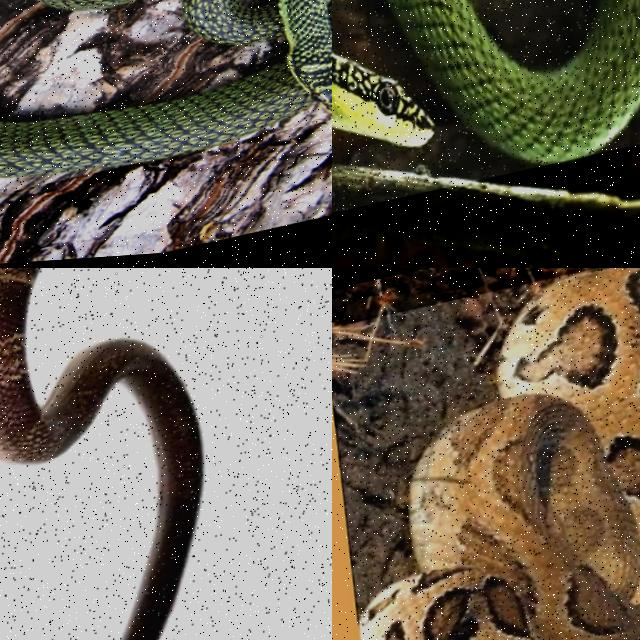Chrysopelea ornata: (0, 0, 331, 177), (387, 0, 639, 162)
Daboia siamensis: (360, 268, 639, 639)
Naja kaouthia: (0, 268, 202, 639)
snake: (360, 268, 639, 639), (0, 268, 202, 639), (0, 0, 331, 177), (387, 0, 639, 162)
